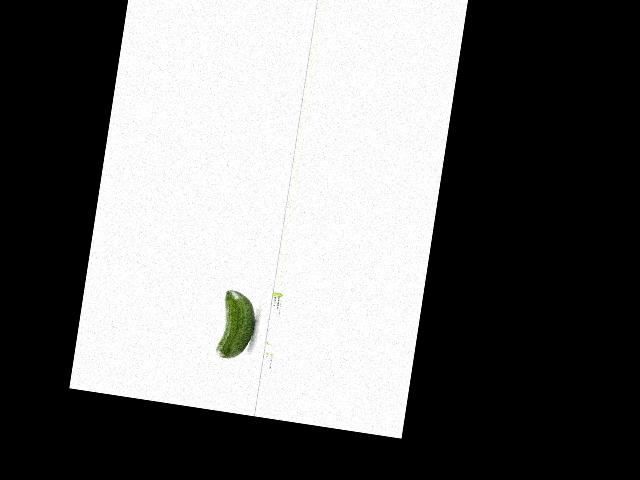cucumber: (215, 290, 259, 362)
